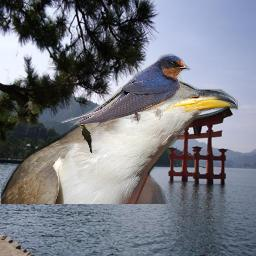Cuckoo: (1, 77, 238, 204), (78, 124, 92, 154)
Swallow: (61, 53, 191, 127)
